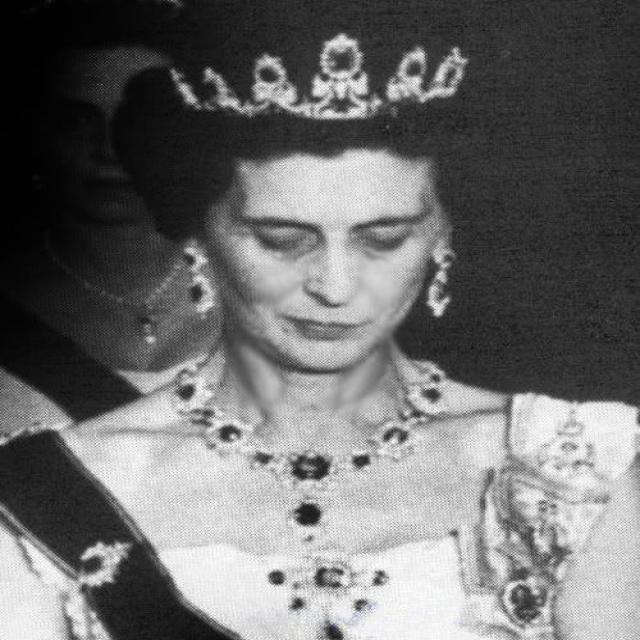Earring: (424, 242, 464, 331), (176, 244, 214, 324)
